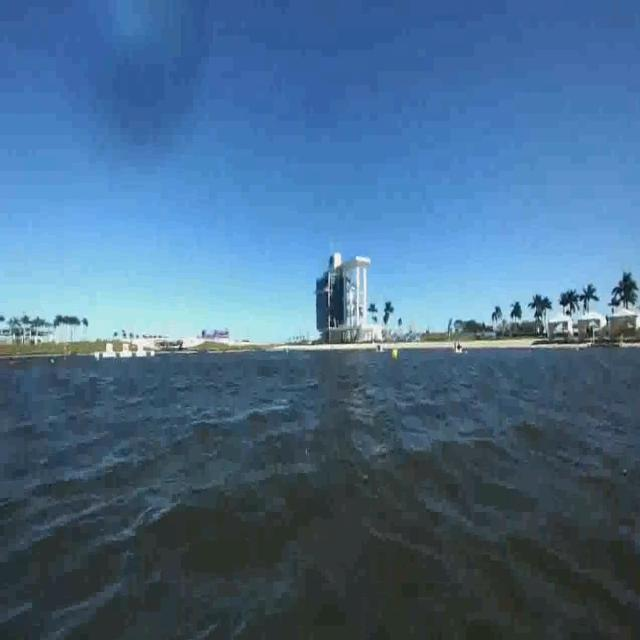yellow-buoy: (391, 348, 399, 362)
